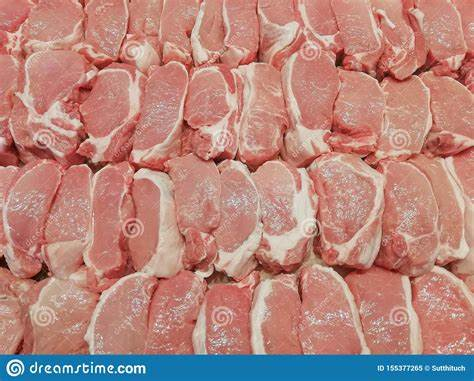Pork: (8, 45, 96, 163), (310, 150, 386, 272), (296, 262, 372, 374), (82, 267, 155, 381), (124, 57, 192, 178), (371, 158, 439, 279), (402, 258, 474, 368), (0, 159, 63, 283), (281, 43, 341, 168), (123, 162, 184, 283), (85, 48, 139, 170), (229, 59, 287, 171), (192, 272, 258, 367), (327, 64, 388, 159), (171, 147, 217, 267), (181, 64, 236, 164), (246, 274, 299, 374), (417, 68, 474, 159), (413, 0, 470, 75), (333, 0, 384, 75), (185, 0, 232, 74), (76, 0, 130, 62), (22, 0, 86, 52), (119, 0, 164, 65), (159, 0, 199, 70), (221, 0, 260, 70), (0, 0, 33, 50)
